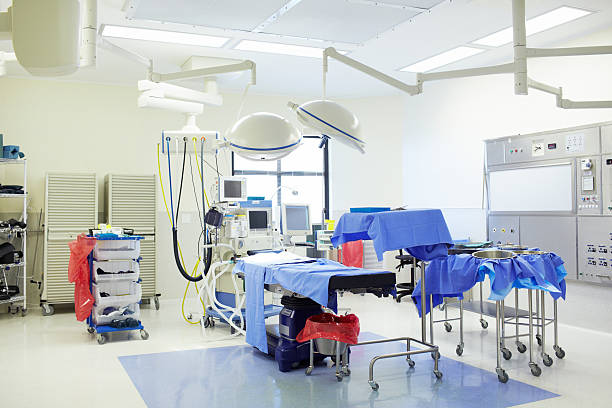bedside_monitor: (281, 203, 312, 237), (220, 180, 246, 201), (248, 209, 274, 230)
breathing_tube: (196, 237, 255, 347)
cabinet: (109, 175, 161, 306), (46, 175, 98, 306)
operating_bed: (226, 247, 397, 370)
surgical_light: (286, 98, 368, 157), (222, 111, 305, 162)
utility_cart: (329, 206, 464, 353), (470, 247, 572, 385), (67, 224, 146, 344), (1, 149, 26, 314)
ventilator: (200, 201, 282, 336)
waste_bin: (297, 310, 361, 382)
